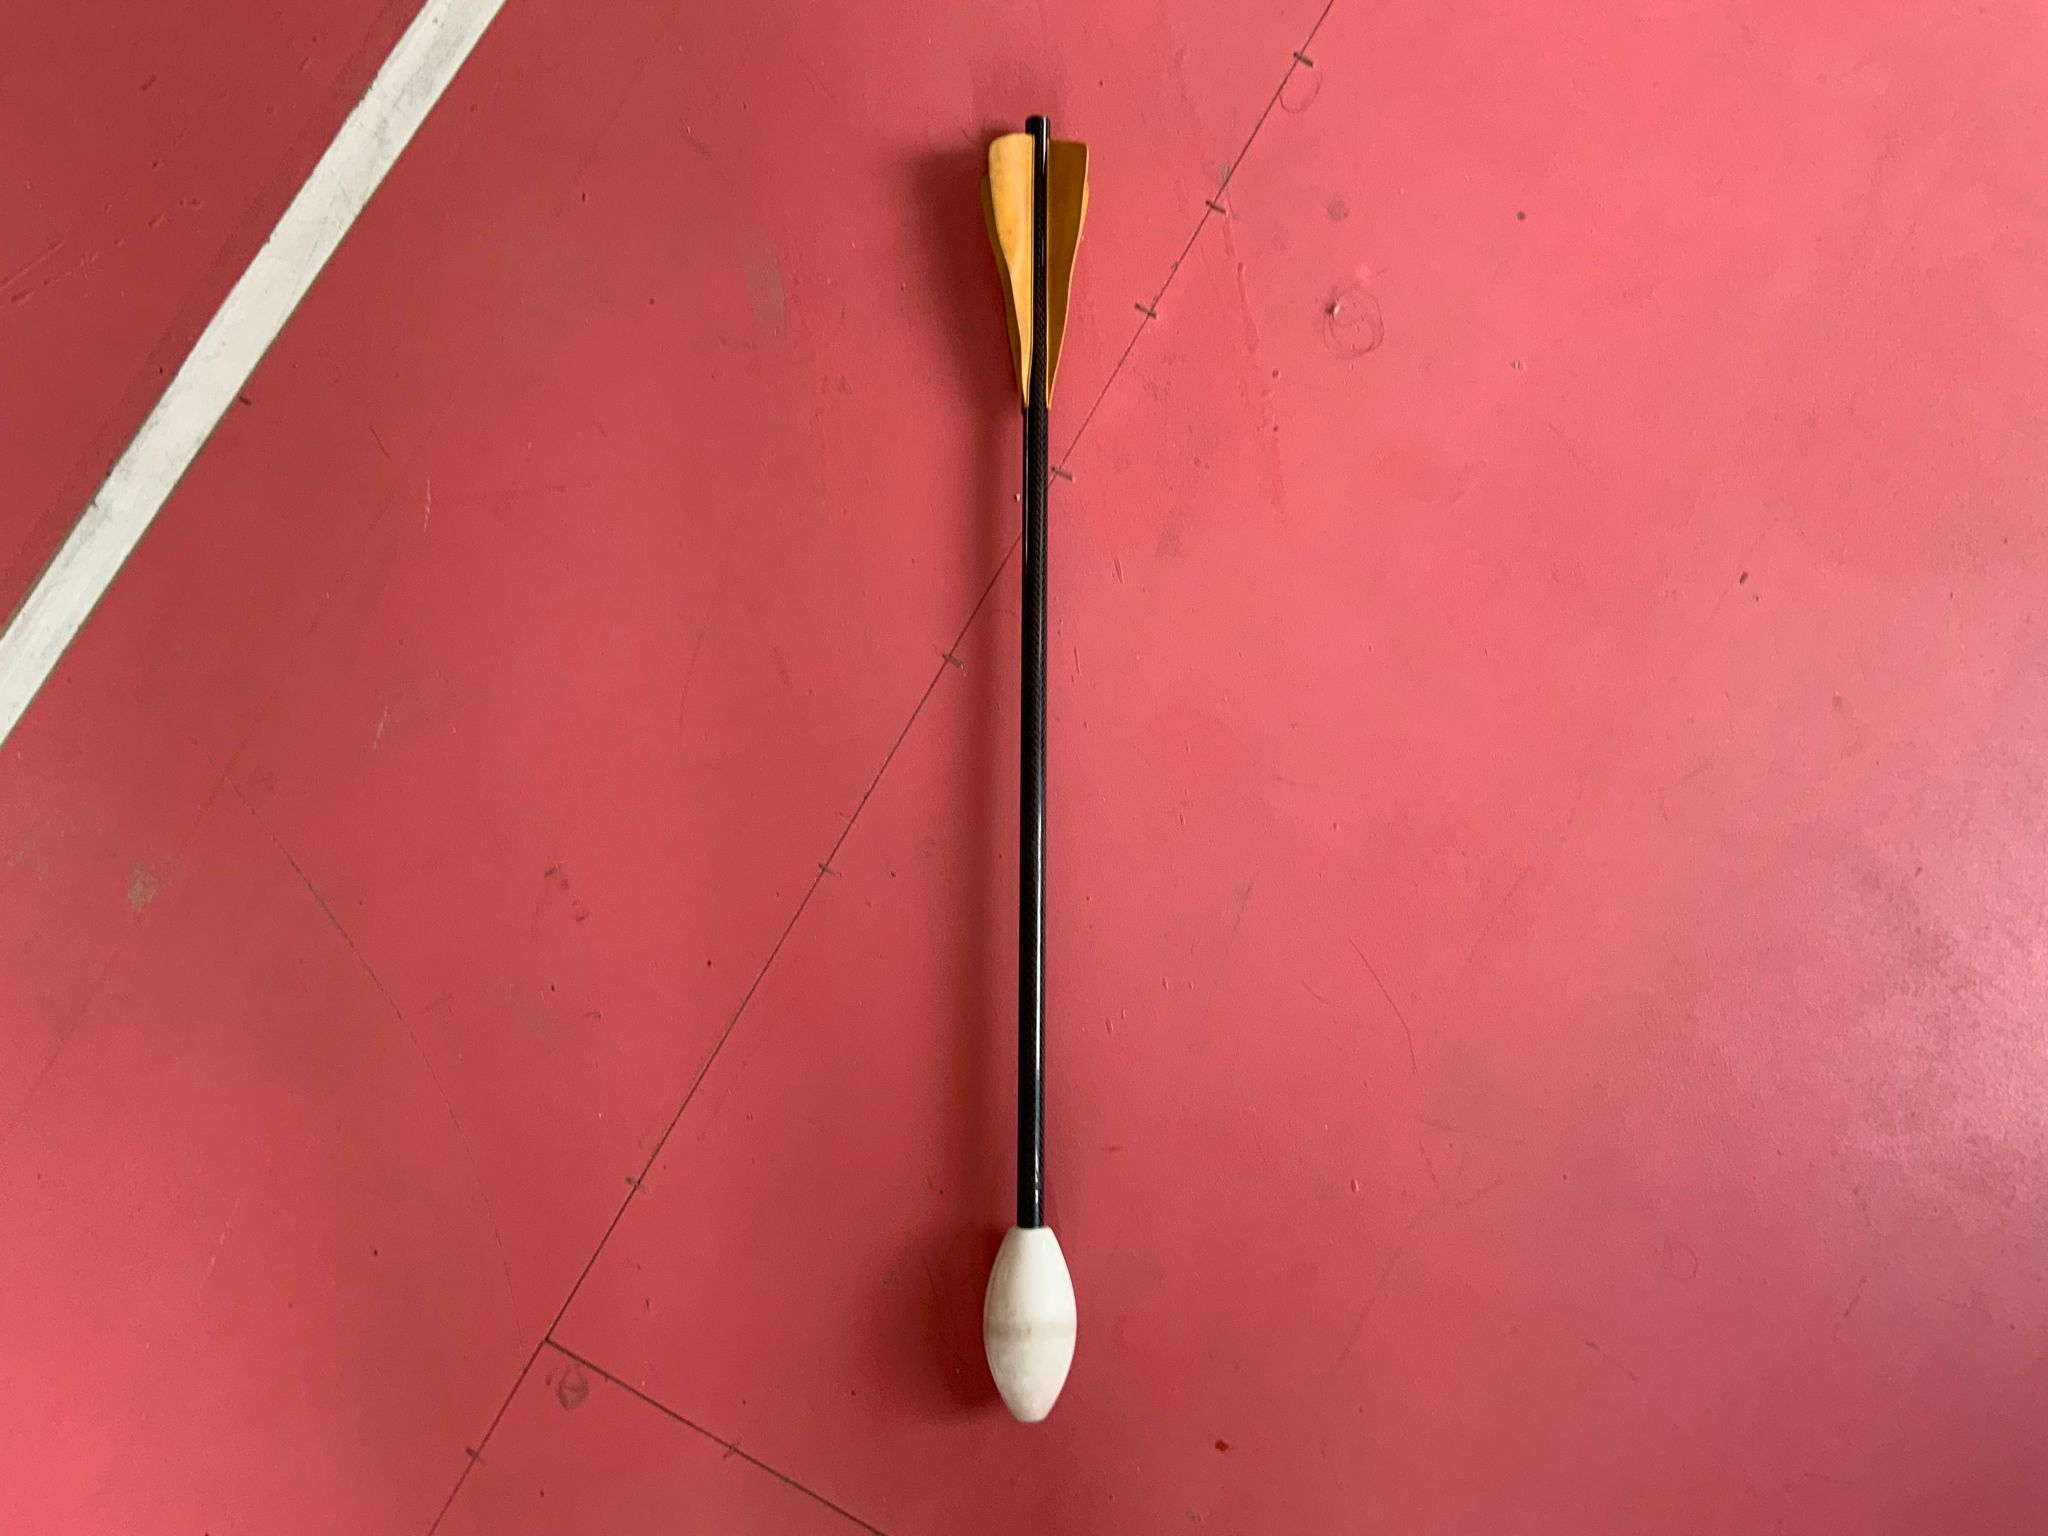arrow: (984, 118, 1093, 1420)
arrowFront: (984, 1221, 1085, 1425)
